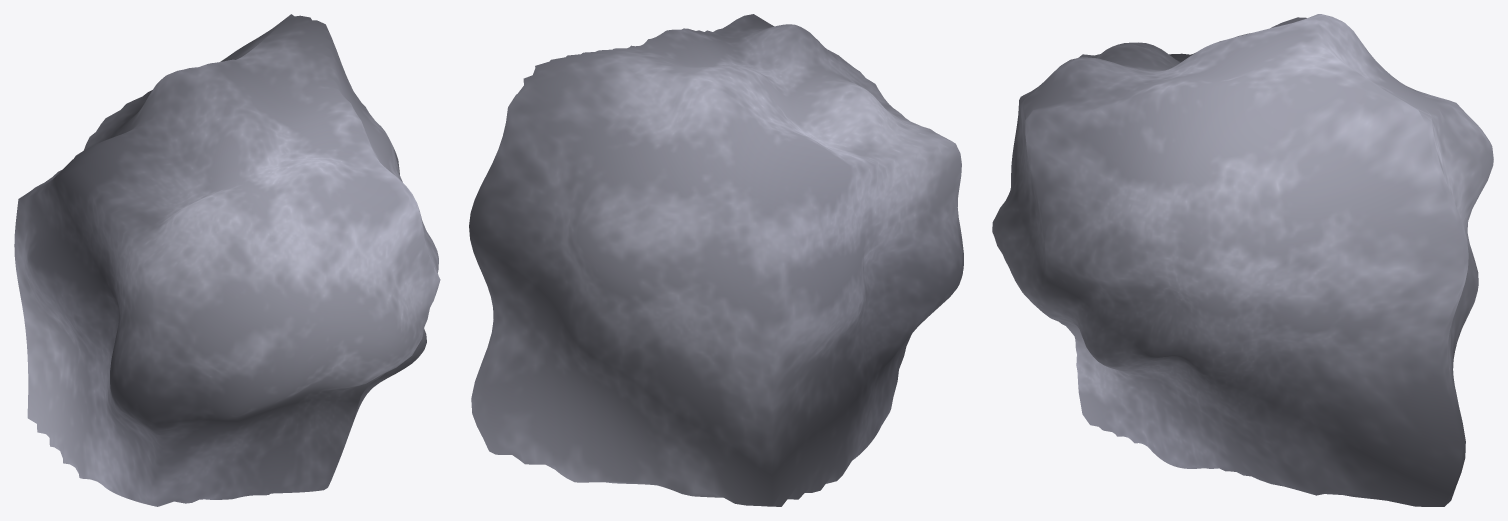
Rendered from asteroid-opal.glb.
3 renders of one model, left to right at view 1: azimuth 30°, elevation 25°; view 2: azimuth 150°, elevation 25°; view 3: azimuth 270°, elevation 25°, orthographic. The views are drawn at different scales.
Parts seen in each view (by area): view 1: asteroid_3004; view 2: asteroid_3004; view 3: asteroid_3004.
Part boxes in pixels (x1,y1,x2,y2): asteroid_3004: [14, 14, 440, 506]; asteroid_3004: [469, 14, 963, 506]; asteroid_3004: [992, 14, 1493, 506].
Bounding box in the file's own units: 30.2 × 32.67 × 34.59.
1 material, 1 textured.
